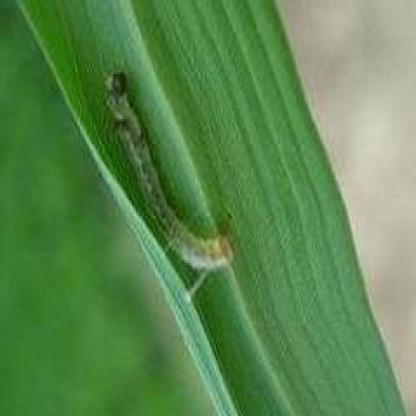leaf-folder: (100, 61, 244, 302)
